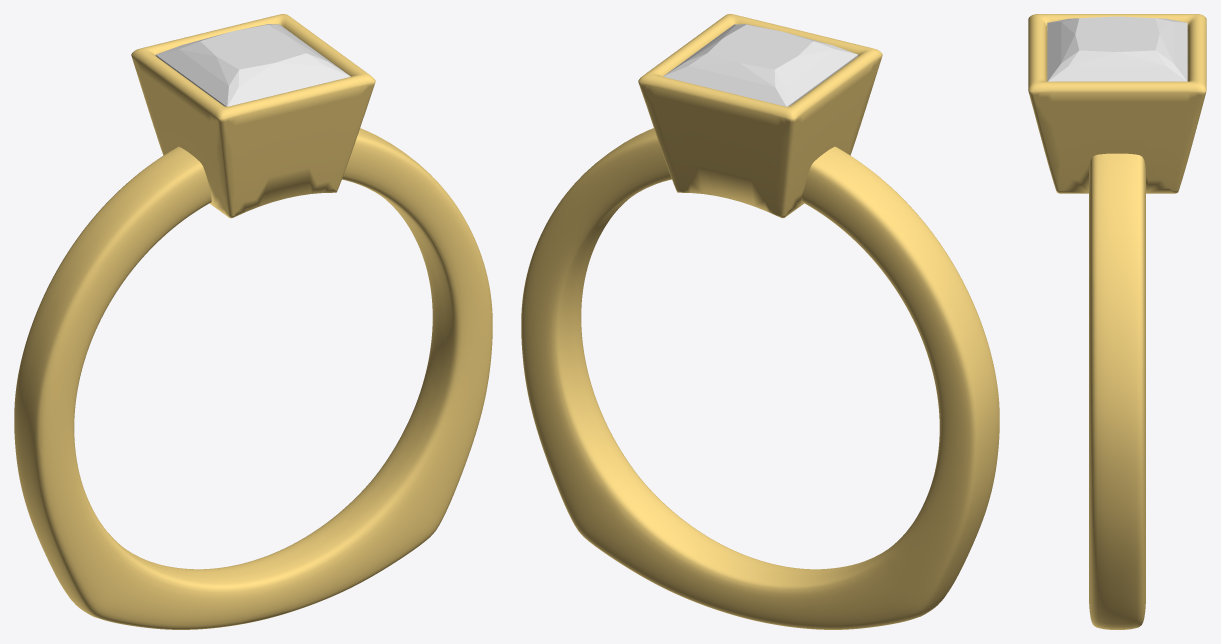
The model's file is diamond-princess-yellowgold-bezelset-europeanshank-solitaire.glb.
3 renders of one model, left to right at view 1: azimuth 30°, elevation 25°; view 2: azimuth 150°, elevation 25°; view 3: azimuth 270°, elevation 25°, orthographic.
Visible parts, largest first — view 1: metal, stone; view 2: metal, stone; view 3: metal, stone.
Boxes of the visible parts, left/top/right/bottom form: metal: left=14, top=14, right=492, bottom=629; stone: left=155, top=24, right=350, bottom=106; metal: left=521, top=14, right=999, bottom=629; stone: left=663, top=24, right=858, bottom=106; metal: left=1028, top=14, right=1206, bottom=629; stone: left=1047, top=16, right=1187, bottom=81.
Bounding box in the file's own units: 20.11 × 23.65 × 6.89.
